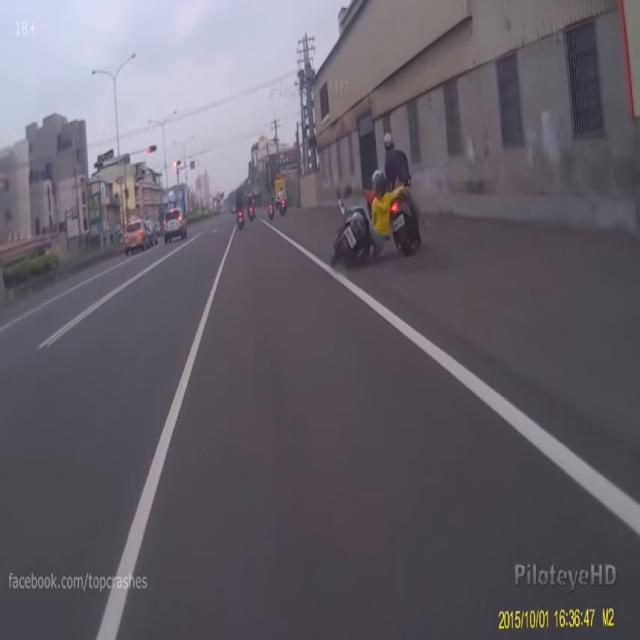accident: (326, 123, 430, 275), (327, 178, 395, 275)
